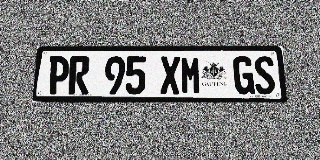5: (125, 56, 146, 94)
9: (104, 56, 125, 94)
G: (233, 56, 255, 94)
M: (181, 56, 201, 94)
P: (47, 56, 70, 94)
R: (68, 56, 90, 94)
S: (253, 56, 276, 94)
X: (160, 56, 180, 94)
